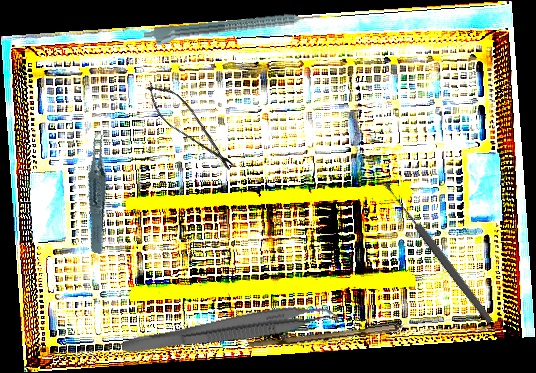Handpiece: (143, 9, 322, 49)
Micro Scissor: (137, 74, 243, 178)
Surgical Spoon: (382, 180, 495, 326), (248, 313, 452, 353)
Tissue Forceps: (120, 296, 340, 368), (65, 127, 135, 255)
